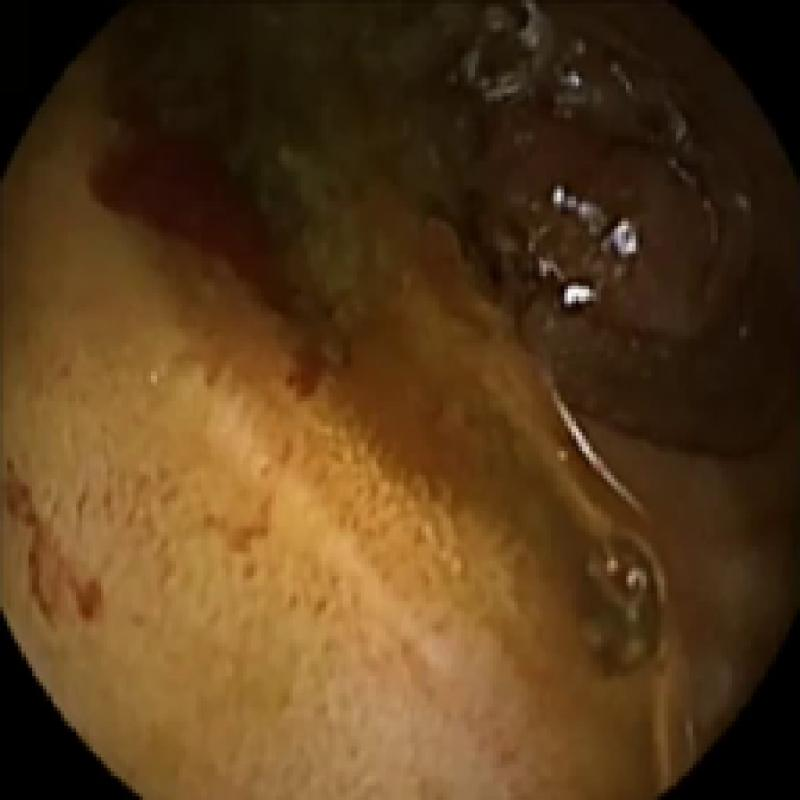bleeding: (97, 68, 307, 318)
